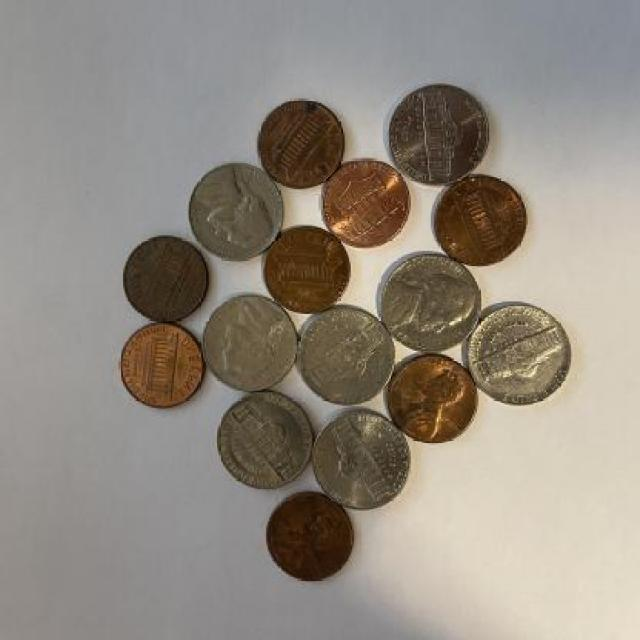Nickel: (383, 83, 491, 189), (292, 300, 397, 409), (377, 251, 485, 355), (468, 302, 574, 406), (200, 289, 302, 397), (186, 162, 288, 266), (312, 408, 412, 510), (214, 392, 314, 490)
Penny: (428, 174, 530, 266), (384, 352, 478, 446), (318, 156, 411, 250), (254, 96, 346, 190), (266, 492, 357, 586), (118, 321, 204, 414), (262, 226, 351, 312), (123, 236, 209, 322)
